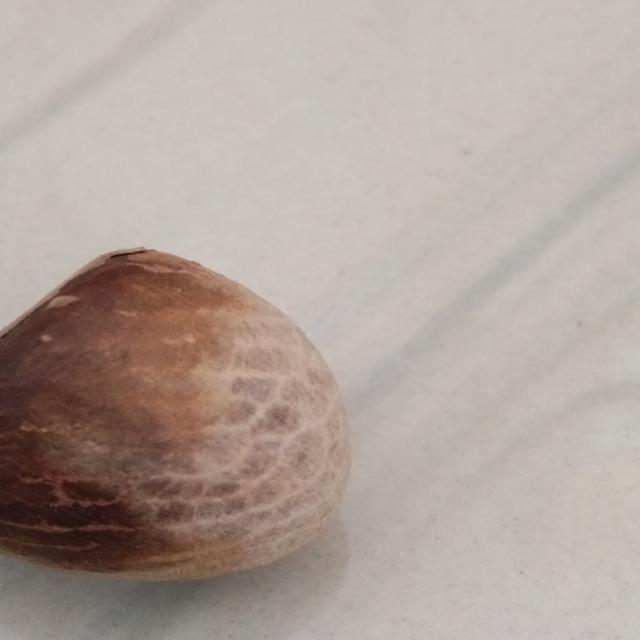karigot: (0, 225, 361, 624)
